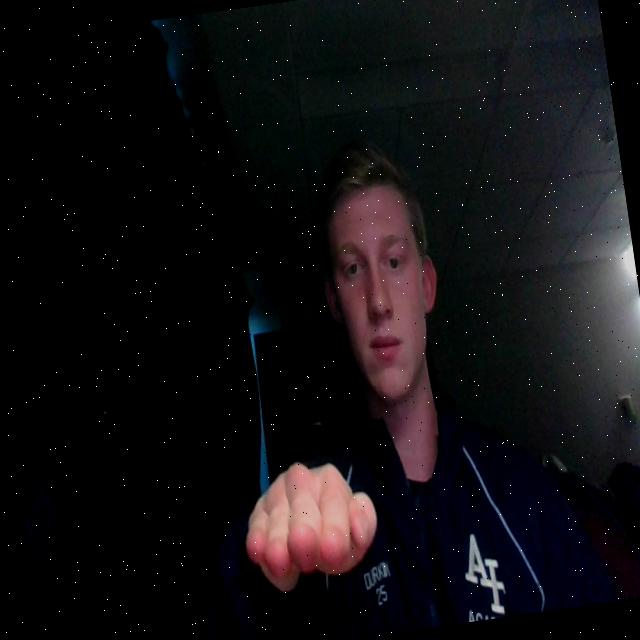paper: (232, 446, 392, 608)
